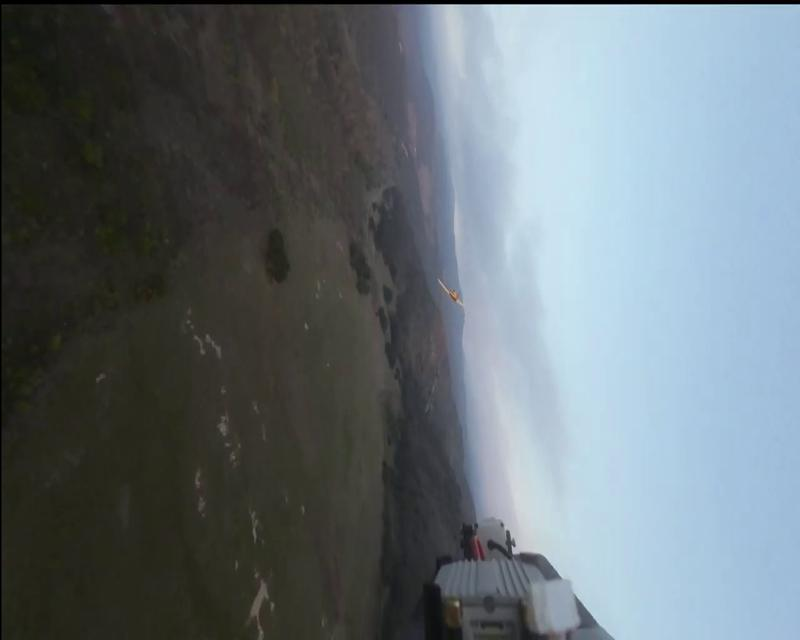UAV: (436, 278, 464, 306)
